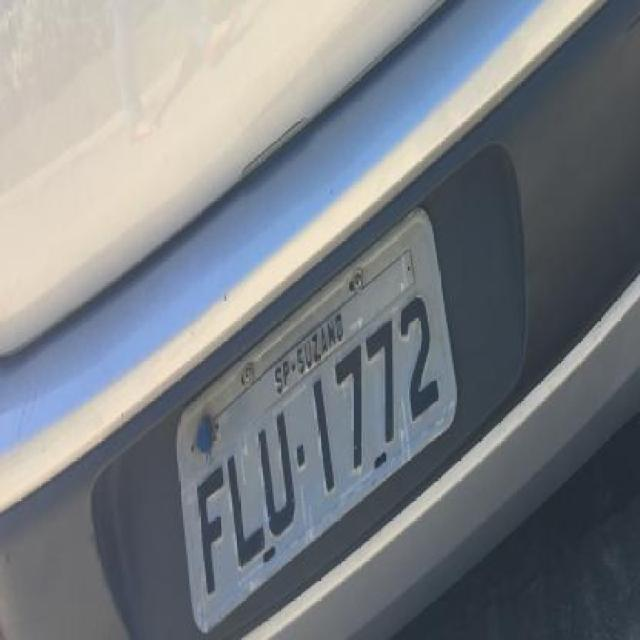old_plate: (166, 198, 468, 640)
